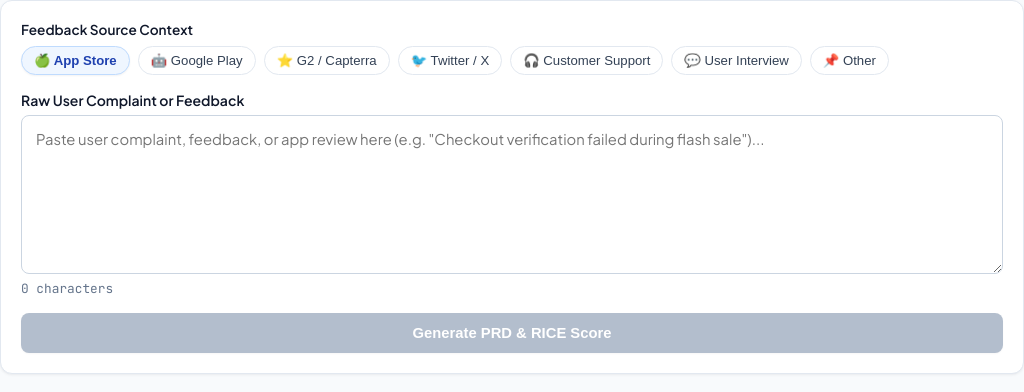
ComplaintForm Component › displays validation error when attempting to submit short complaint text
Replace the text in the text box labelled "Raw User Complaint or Feedback" with "Buggy" at (512, 195), box [21,115,1003,274]
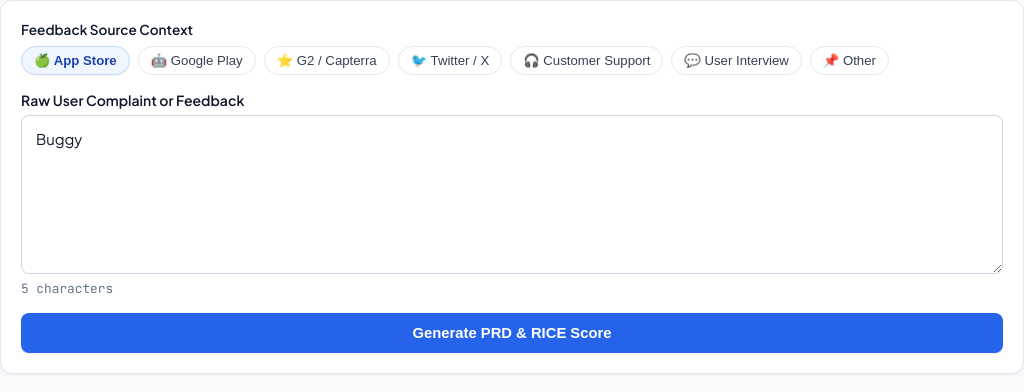
Submit the form named "complaint input form"
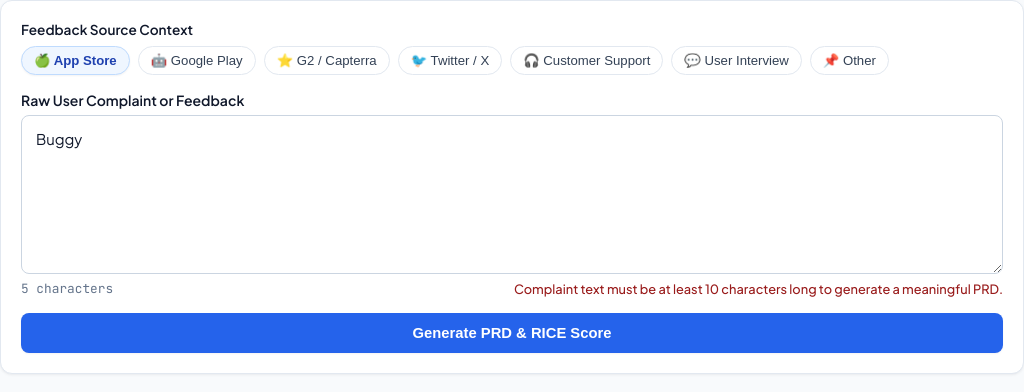
Result: the text "Complaint text must be at least 10 characters long to generate a meaningful PRD." is shown at [514,281,1003,297]
